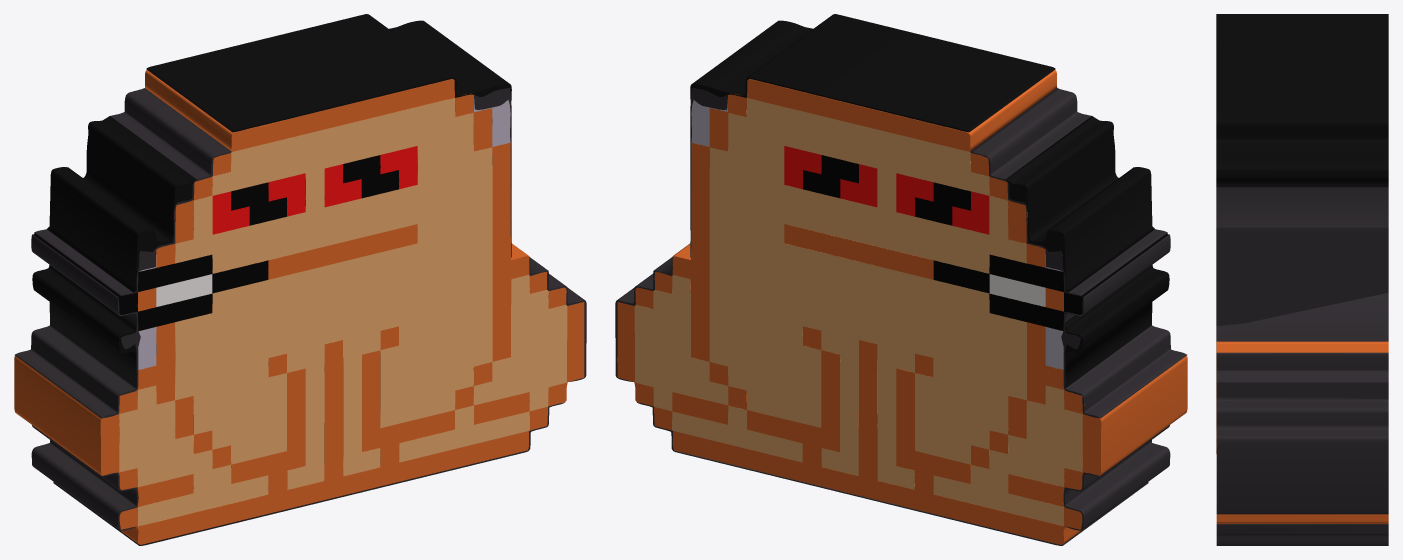
File: Toadz_5814.glb
The picture shows the model from 3 angles, left to right: view 1: azimuth 30°, elevation 25°; view 2: azimuth 150°, elevation 25°; view 3: azimuth 270°, elevation 25°; orthographic projection.
Visible parts, largest first — view 1: Curve; view 2: Curve; view 3: Curve.
Boxes of the visible parts, box(x1,y1,x2,y2) form: Curve: box(14, 14, 586, 545); Curve: box(615, 14, 1187, 545); Curve: box(1216, 14, 1388, 545).
Size of the model in its own units: 3.24 by 2.5 by 1.
